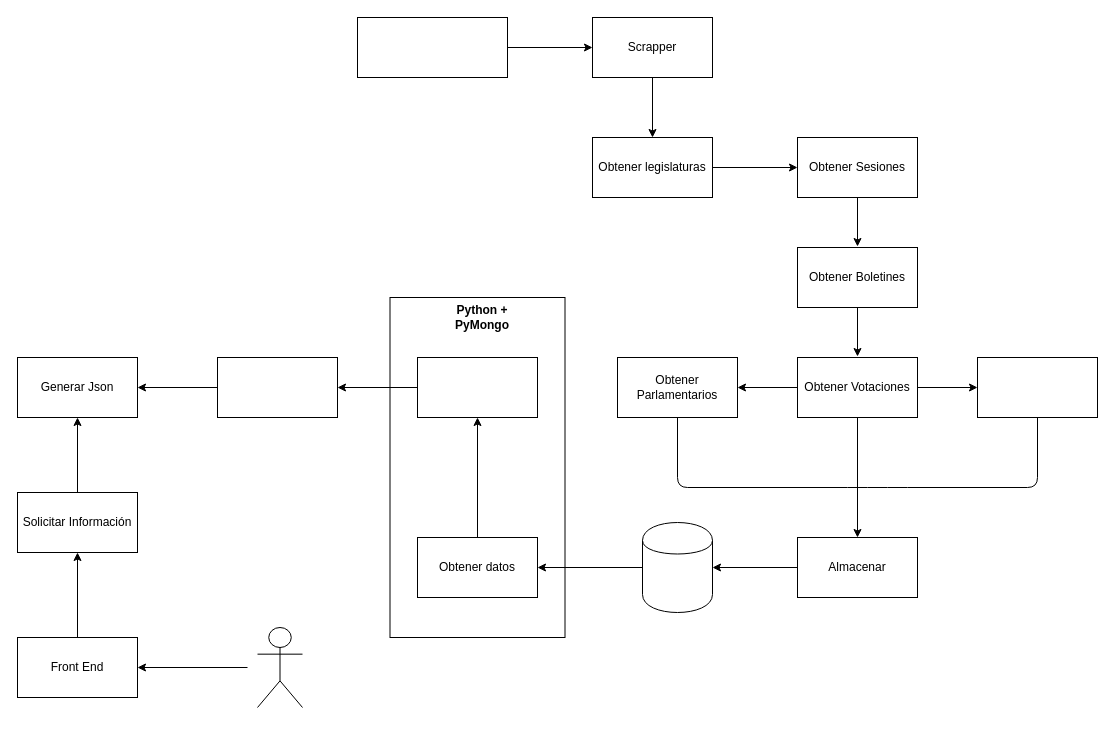
This 1115x746 diagram has some shape labels left out. Here are the shapes that lost their labels. From the top down, the centre of each, then its label:
At (432,47): "Api congreso http://opendata.camara.cl".
At (277,387): "Obtener resultados".
At (477,387): "Procesar información".
At (1037,387): "Obtener Proyectos".
At (677,567): "Base de datos MongoDB".
At (279,667): "Usuario".
